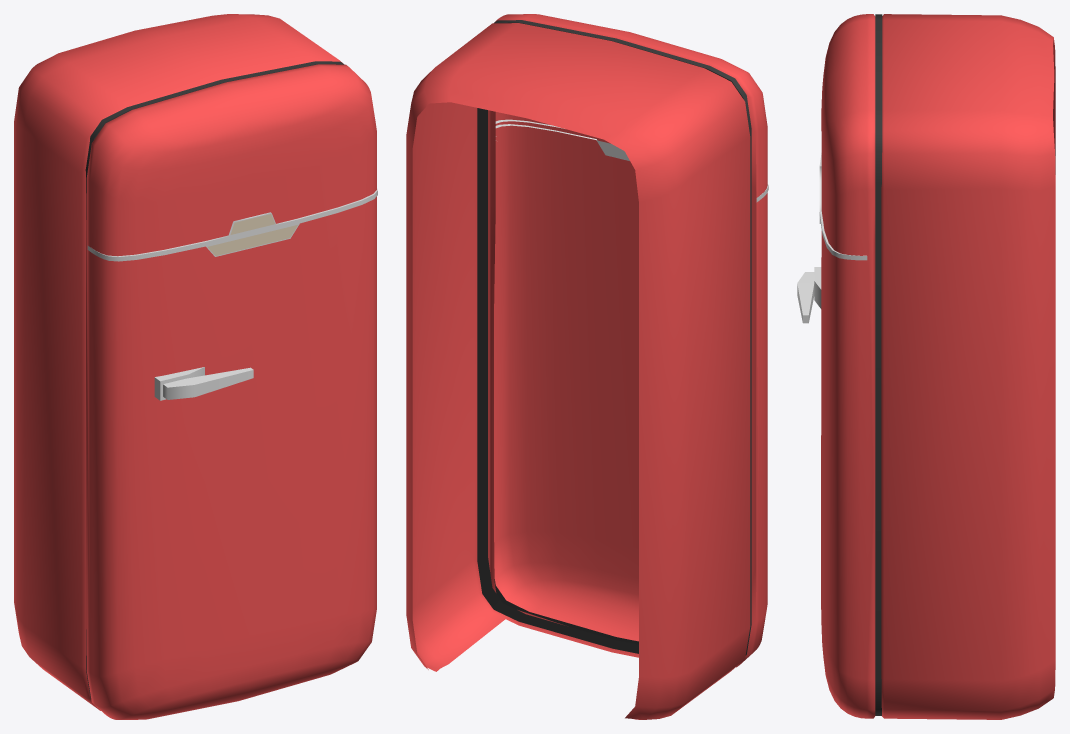
Rendered from Fridge.fbx.
3 views of the same model, side by side, from view 1: azimuth 30°, elevation 25°; view 2: azimuth 150°, elevation 25°; view 3: azimuth 270°, elevation 25° (orthographic).
Visible parts, largest first — view 1: Holodilnik; view 2: Holodilnik; view 3: Holodilnik.
Boxes of the visible parts, <box> form: Holodilnik: <box>14,14,377,719</box>; Holodilnik: <box>406,14,768,719</box>; Holodilnik: <box>797,14,1055,719</box>.
Size of the model in its own units: 263 by 551 by 211.
